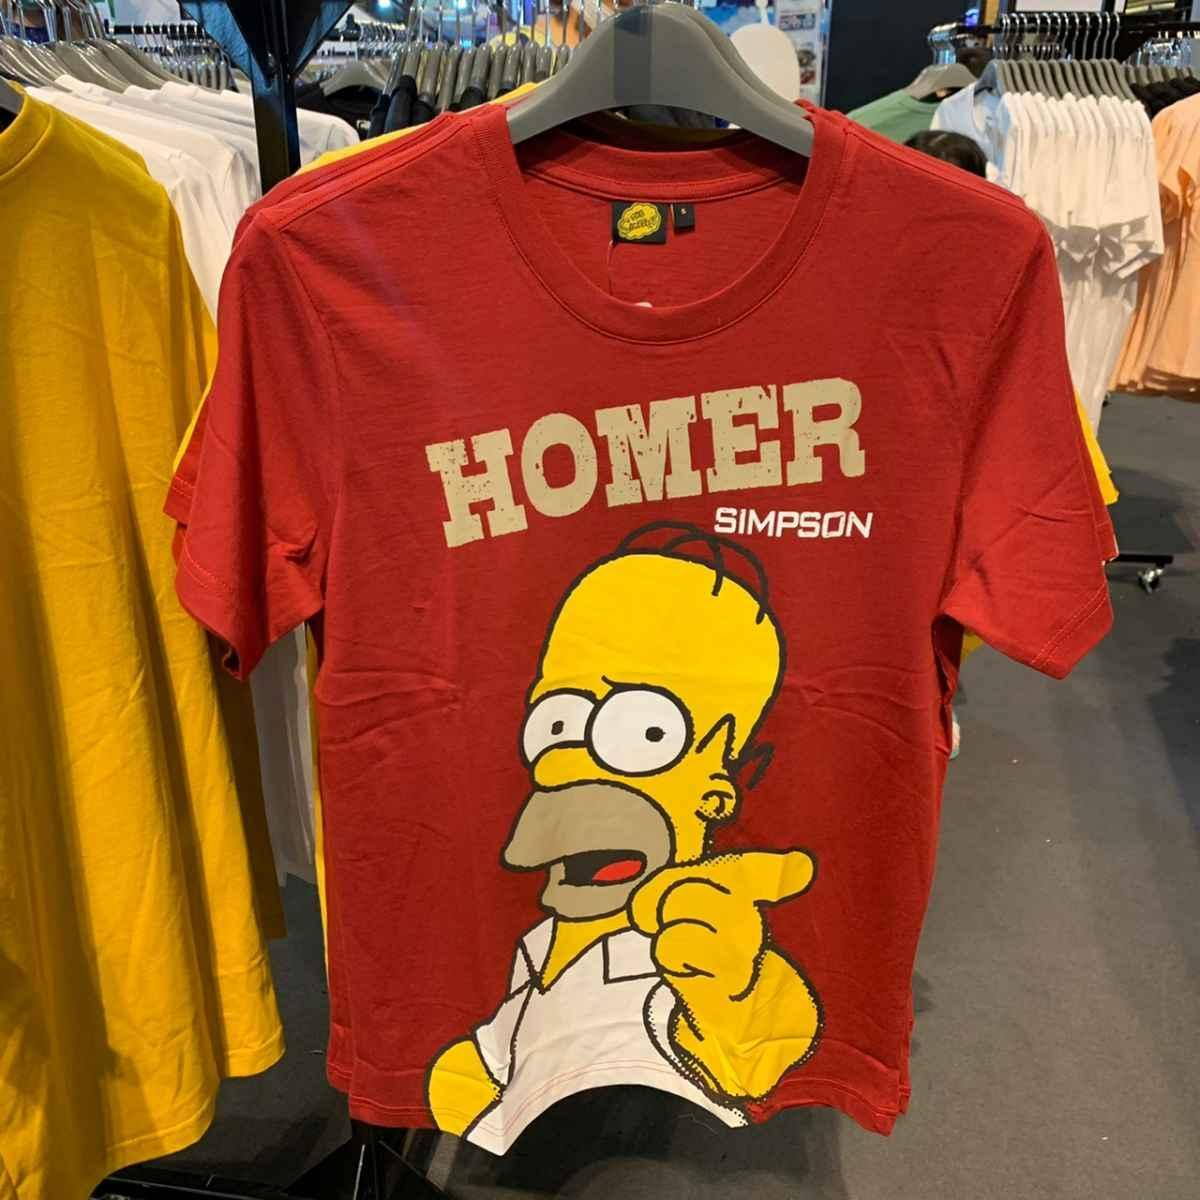Tshirt: (170, 108, 1111, 1129)
